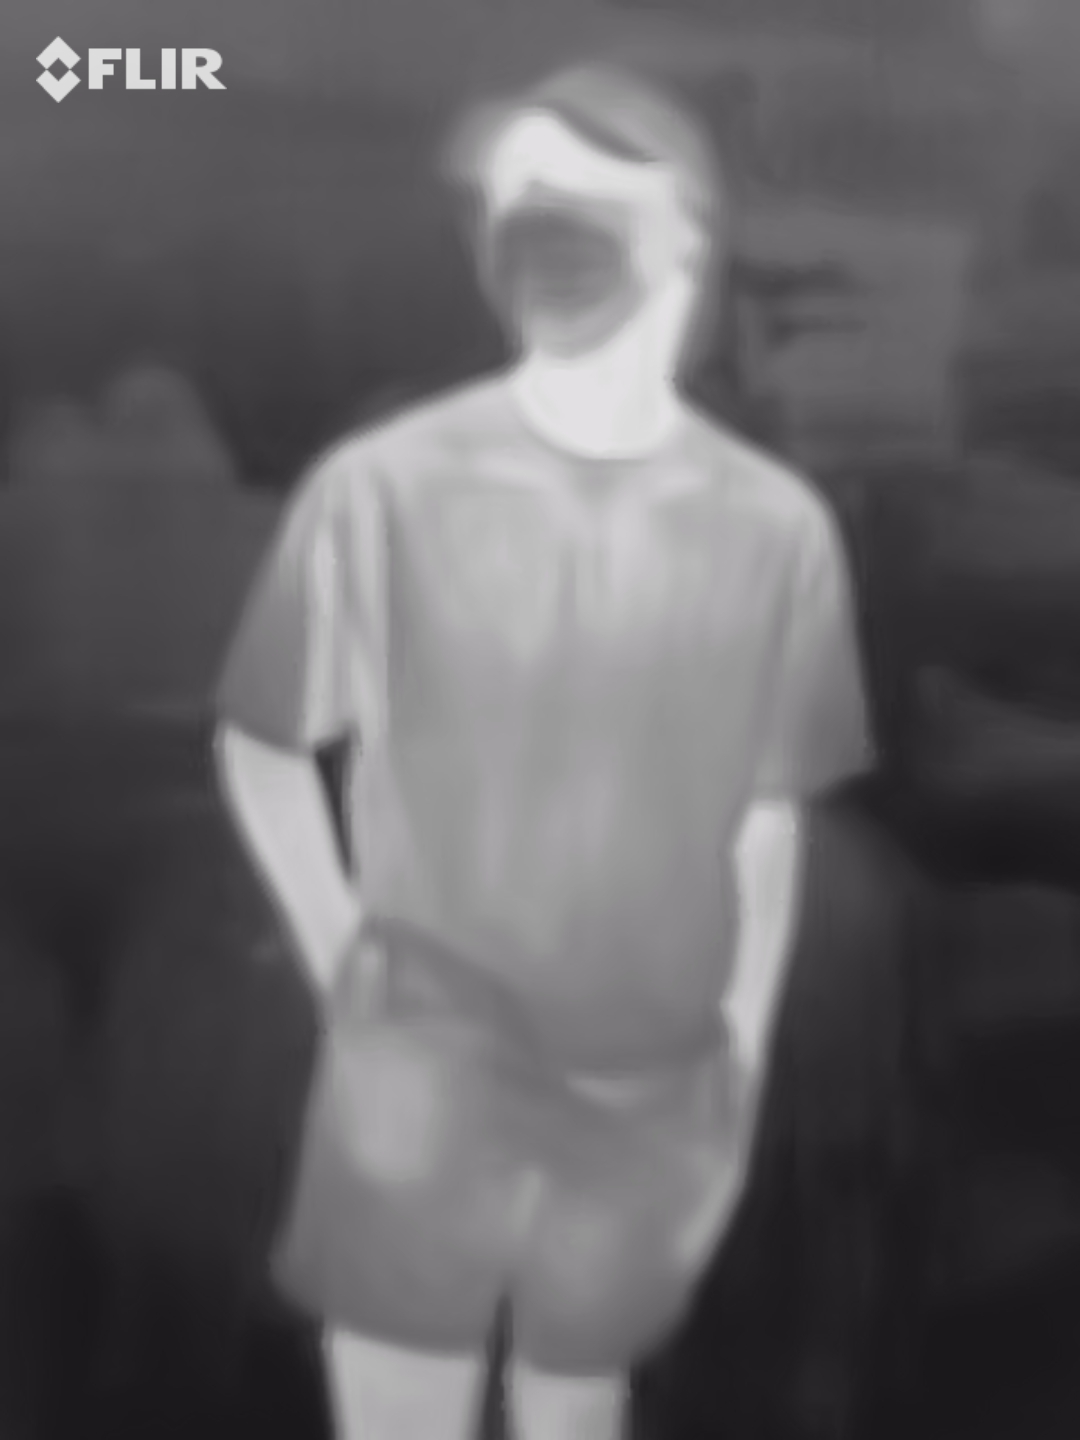head: (466, 60, 730, 381)
